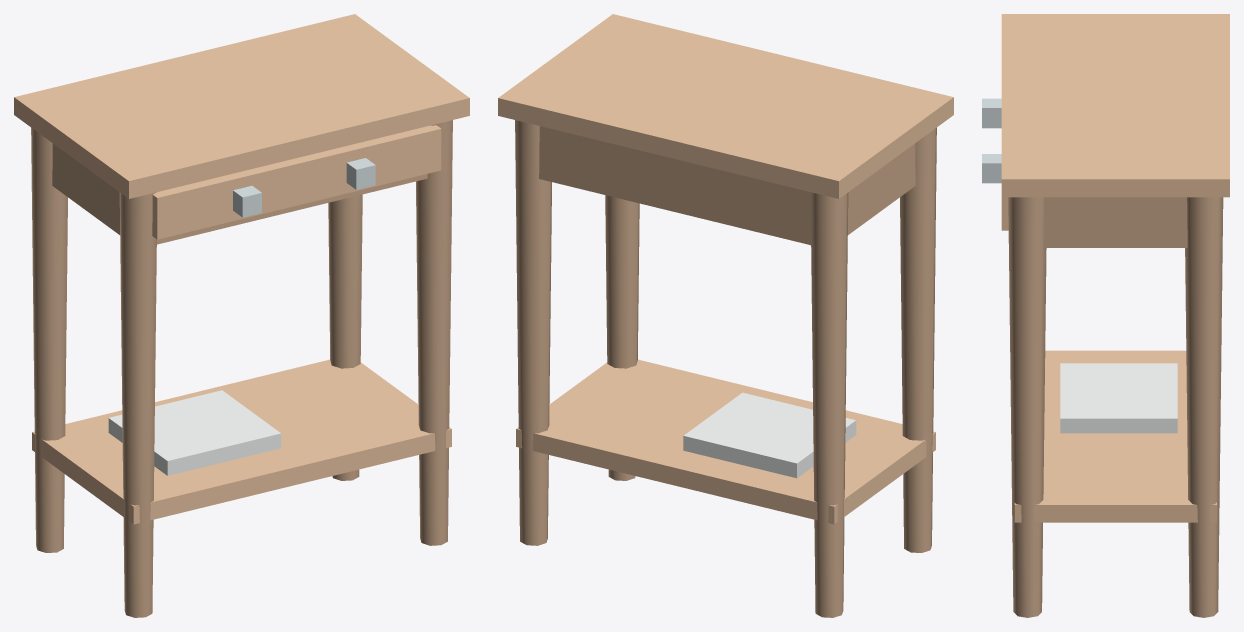
The model's file is sideTelephone.glb.
3 renders of one model, left to right at view 1: azimuth 30°, elevation 25°; view 2: azimuth 150°, elevation 25°; view 3: azimuth 270°, elevation 25°, orthographic.
Parts seen in each view (by area): view 1: sideTelephone; view 2: sideTelephone; view 3: sideTelephone.
Boxes of the visible parts, box(x1,y1,x2,y2) form: sideTelephone: box(14, 14, 469, 617); sideTelephone: box(498, 14, 953, 617); sideTelephone: box(982, 14, 1229, 617).
Bounding box in the file's own units: 0.3 × 0.375 × 0.19.
